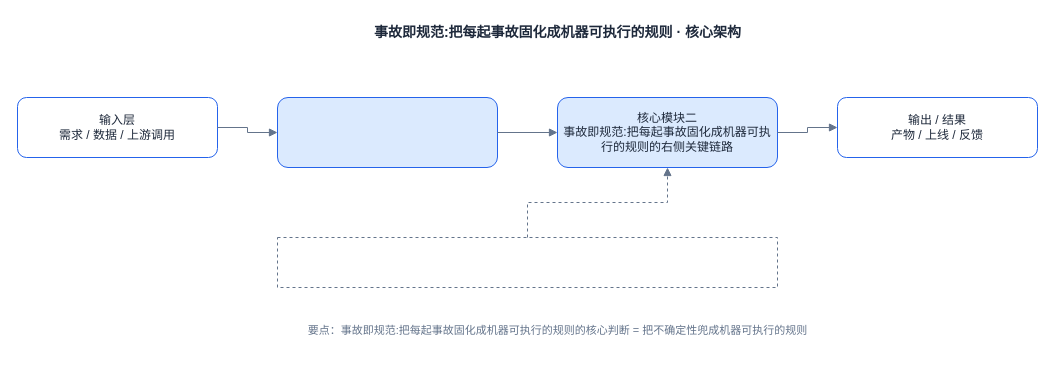
Some shapes in this 1055 by 369 pixel diagram are drawn without their labels. Each missing label, with the centre of its shape:
兜底层 质量 / 安全 / 监控 / 评审: point (527, 262)
核心模块一 事故即规范:把每起事故固化成机器可执行的规则的左侧关键链路: point (387, 132)
